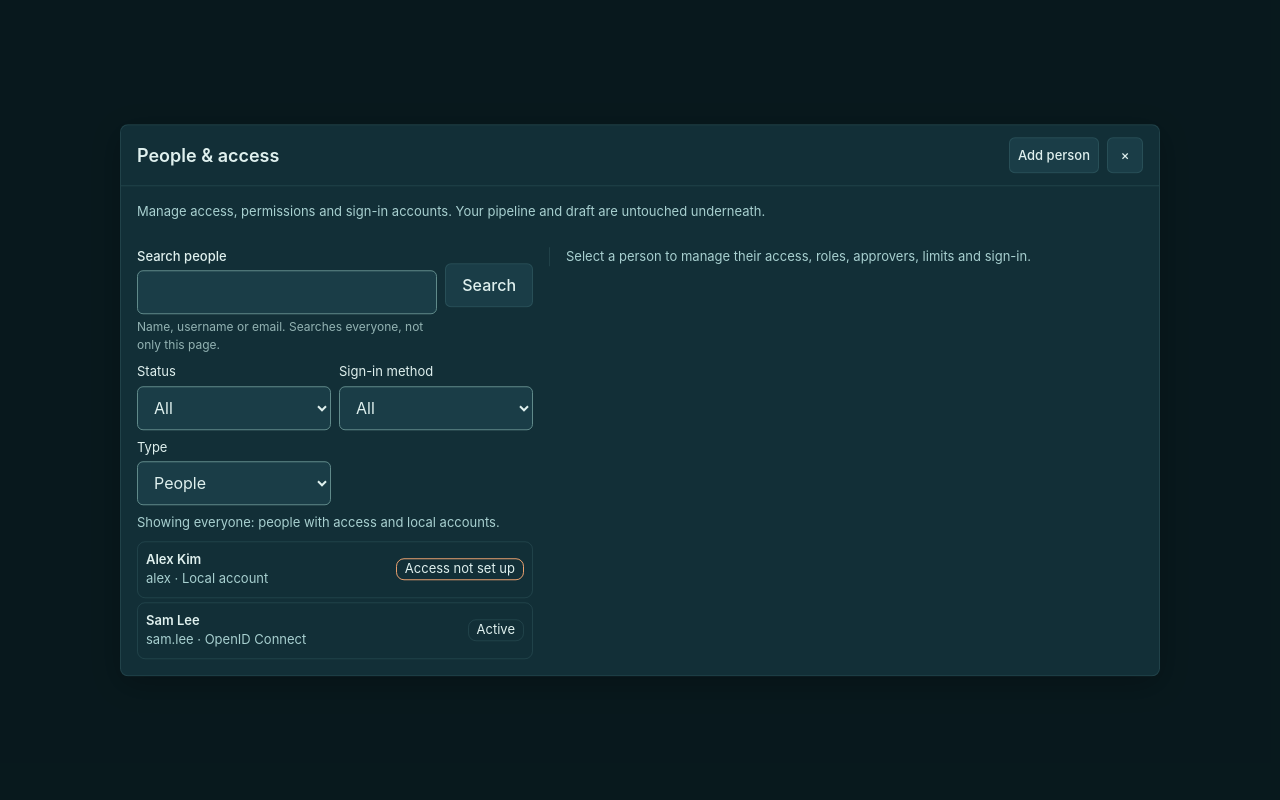
People & access: implementation review regressions › does not jump to a person whose access setup finishes after the administrator moved on
Click the button "Alex Kim alex · Local account Access not set up" at point(174, 559), box [137,541,533,598]
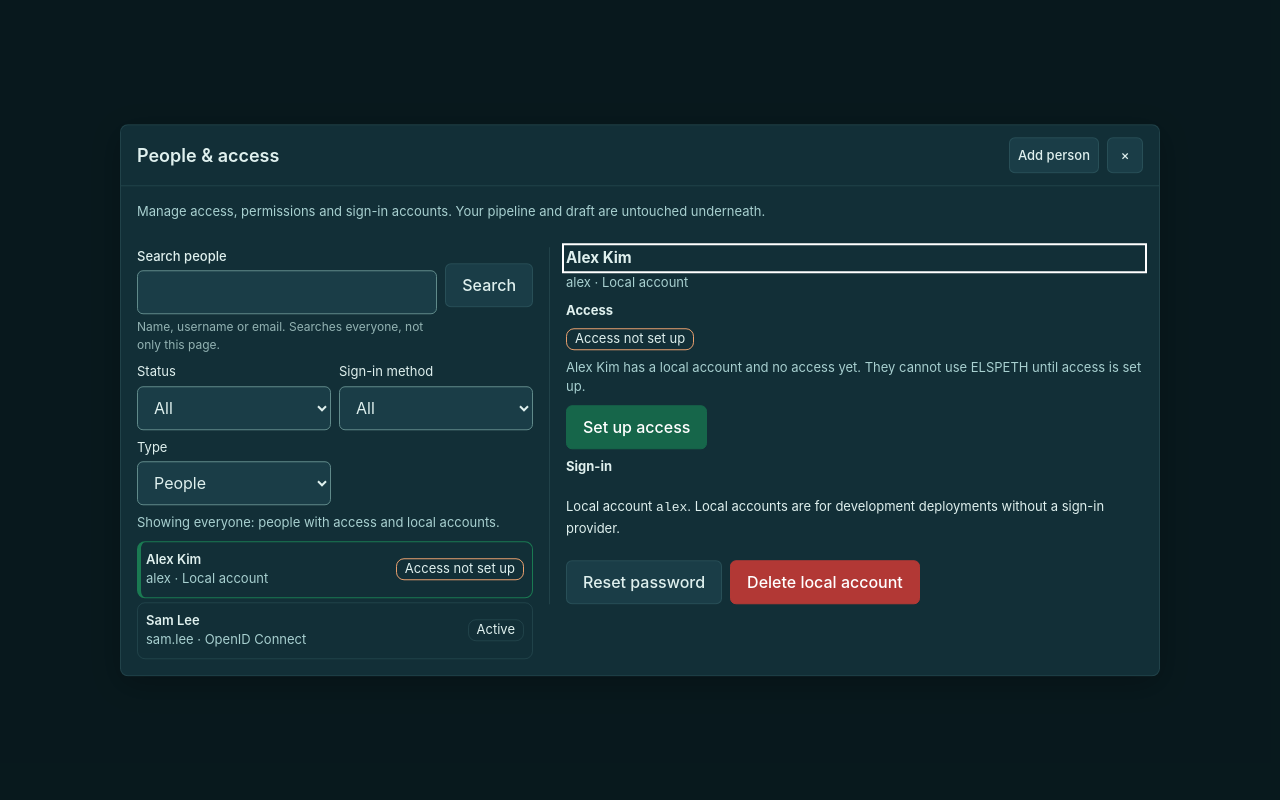
Click the button "Set up access" at point(637, 427), box [566,405,707,449]
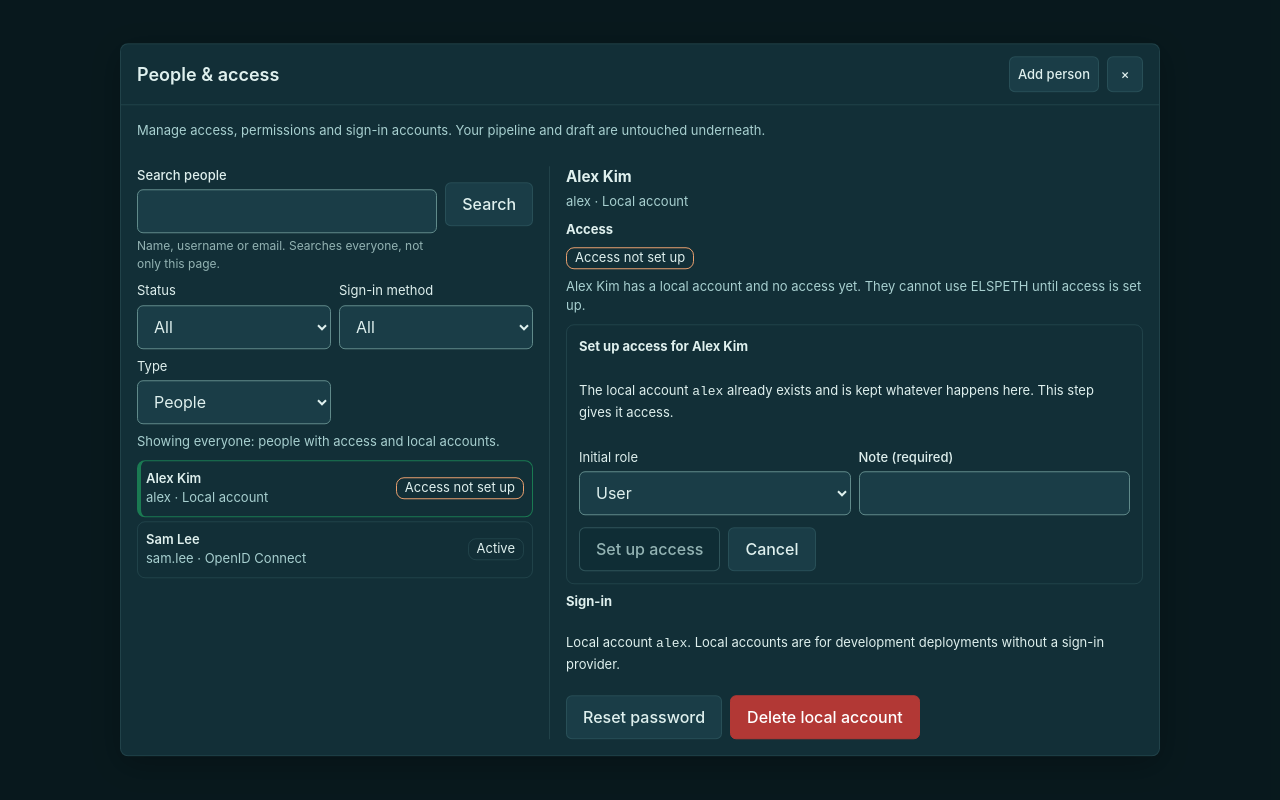
Type "new starter" into the field labelled "Note (required)" at point(994, 494), box [858,472,1130,516]
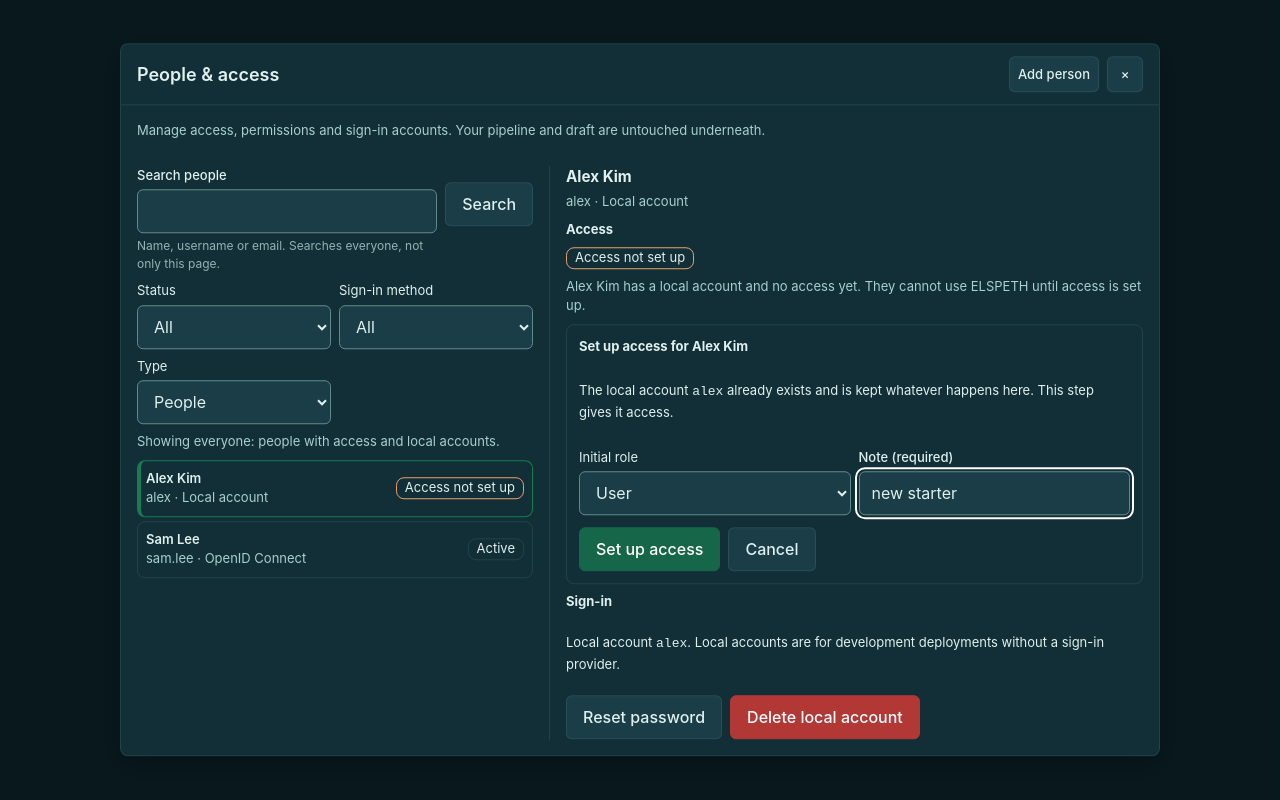
Click the button "Set up access" at point(650, 550), box [579,528,720,572]
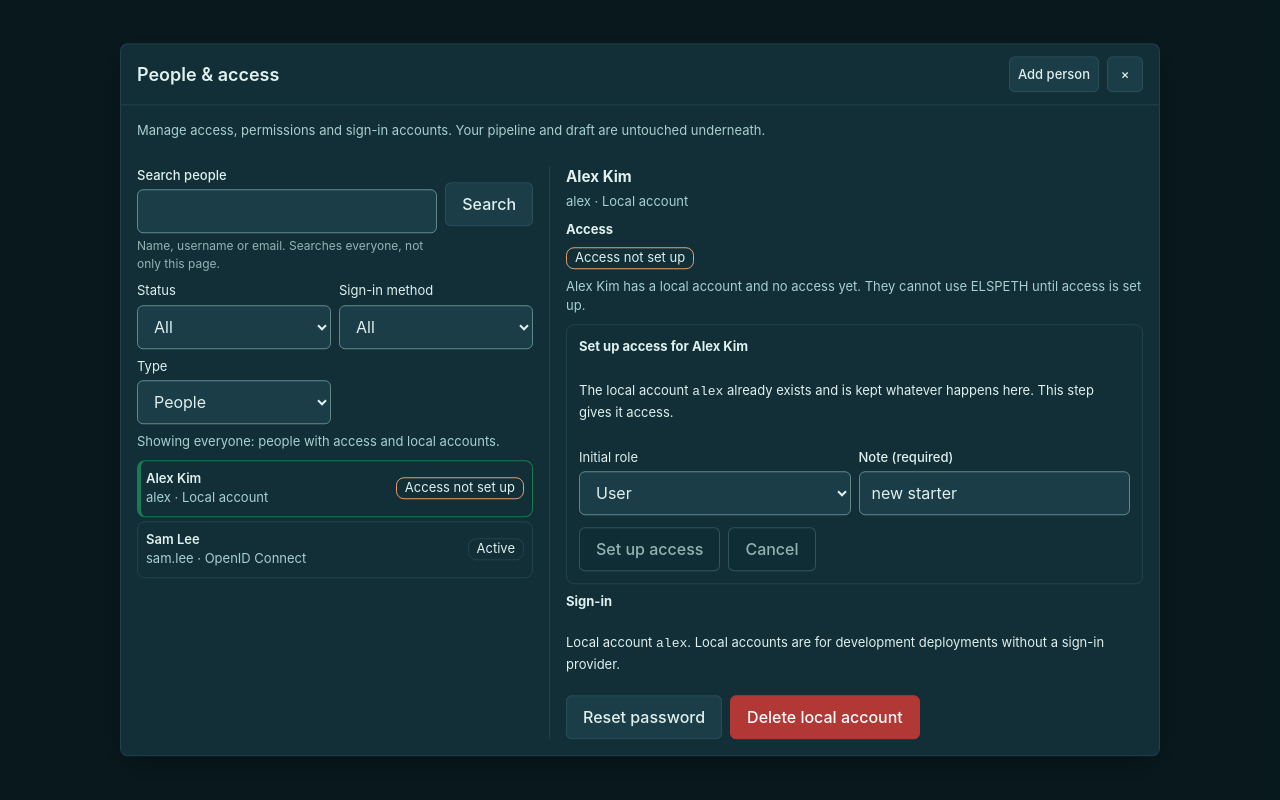
Click the button "Sam Lee sam.lee · OpenID Connect Active" at point(173, 539), box [137,521,533,578]
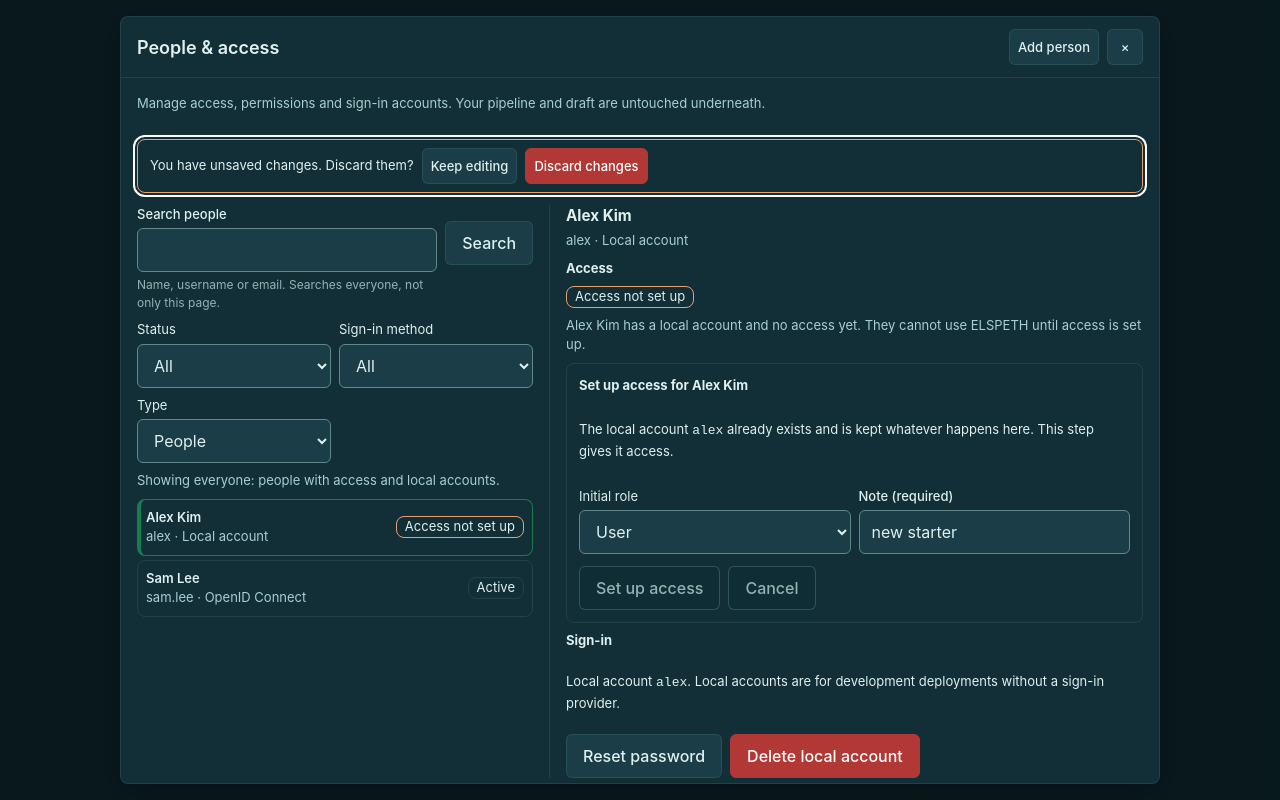
Click the button "Discard changes" at point(586, 166), box [525,148,648,184]
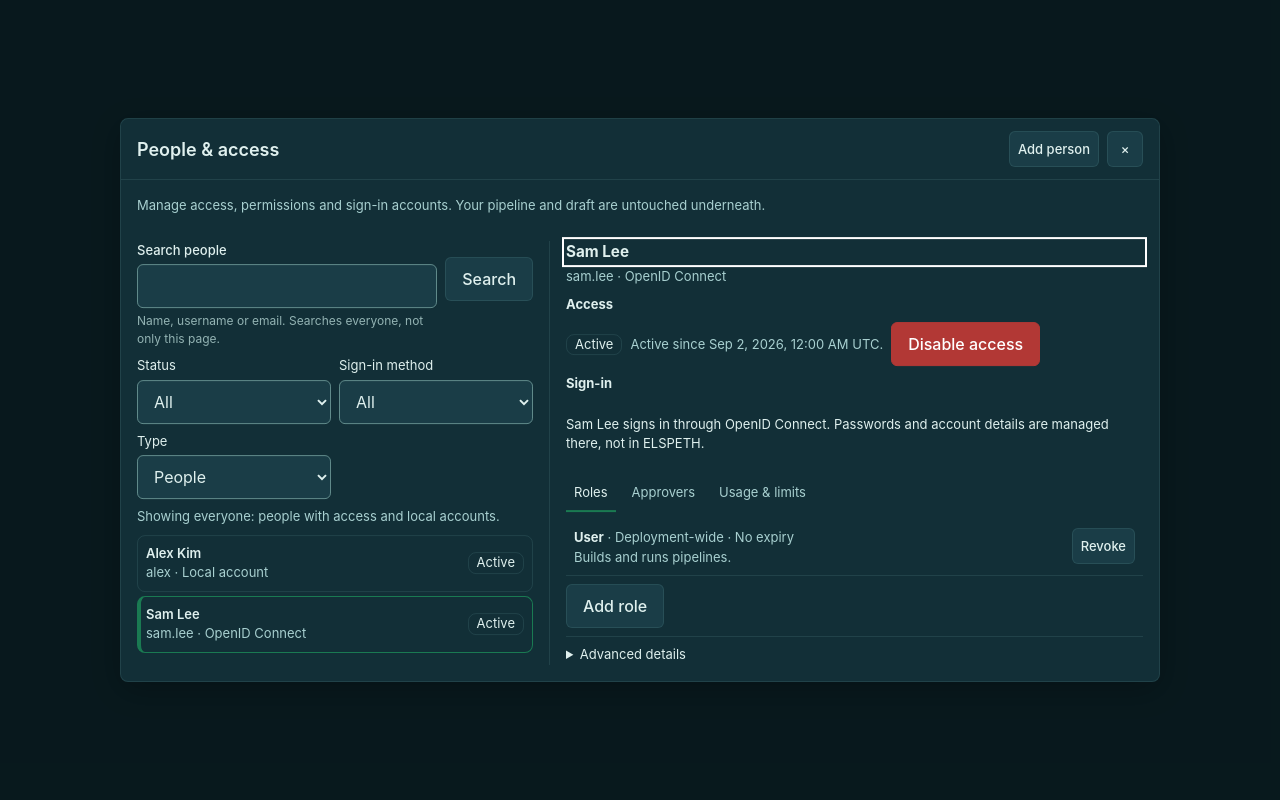
Expected: the heading "Sam Lee" is shown, [566,242,629,261]
